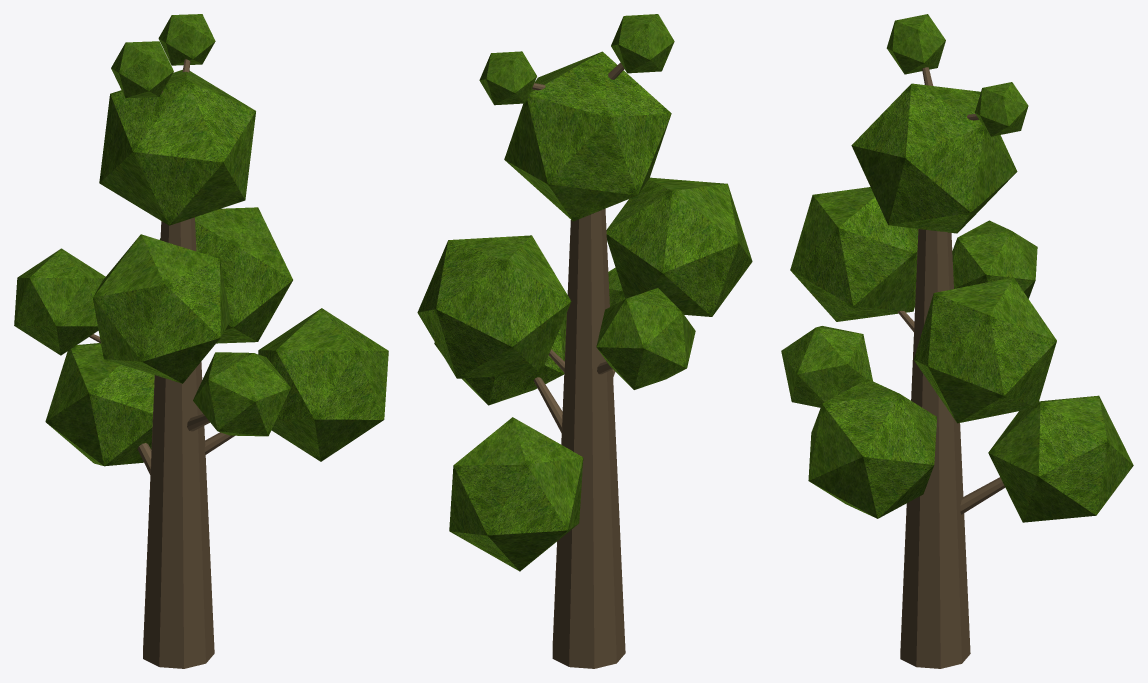
Rendered from tree3.obj.
The picture shows the model from 3 angles, left to right: view 1: azimuth 30°, elevation 25°; view 2: azimuth 150°, elevation 25°; view 3: azimuth 270°, elevation 25°; orthographic projection. The views are drawn at different scales.
Parts seen in each view (by area): view 1: leaves_Icosphere.008, wood_Cylinder.008; view 2: leaves_Icosphere.008, wood_Cylinder.008; view 3: leaves_Icosphere.008, wood_Cylinder.008.
Part boxes in pixels (<box>): leaves_Icosphere.008: <box>14,14,388,466</box>; wood_Cylinder.008: <box>89,59,234,668</box>; leaves_Icosphere.008: <box>417,14,752,571</box>; wood_Cylinder.008: <box>532,62,625,668</box>; leaves_Icosphere.008: <box>781,14,1133,522</box>; wood_Cylinder.008: <box>898,67,1005,668</box>.
Bounding box in the file's own units: 1.55 × 3.05 × 1.59.
Materials: 2 (2 with a texture image).
